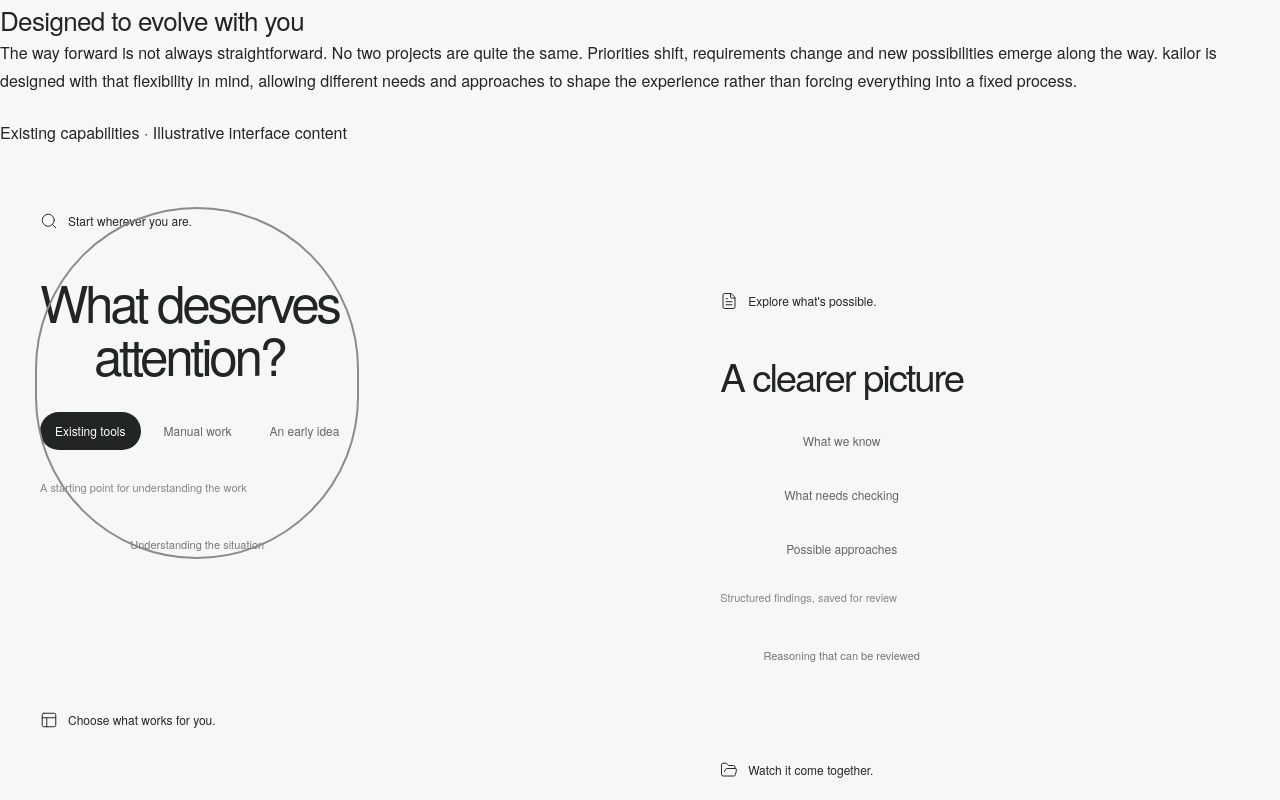
Test: opens Start wherever you are. detail, contains keyboard focus and restores the card after closing
Click the button with aria-label "Explore Start wherever you are." at (197, 383), box [40,212,354,554]
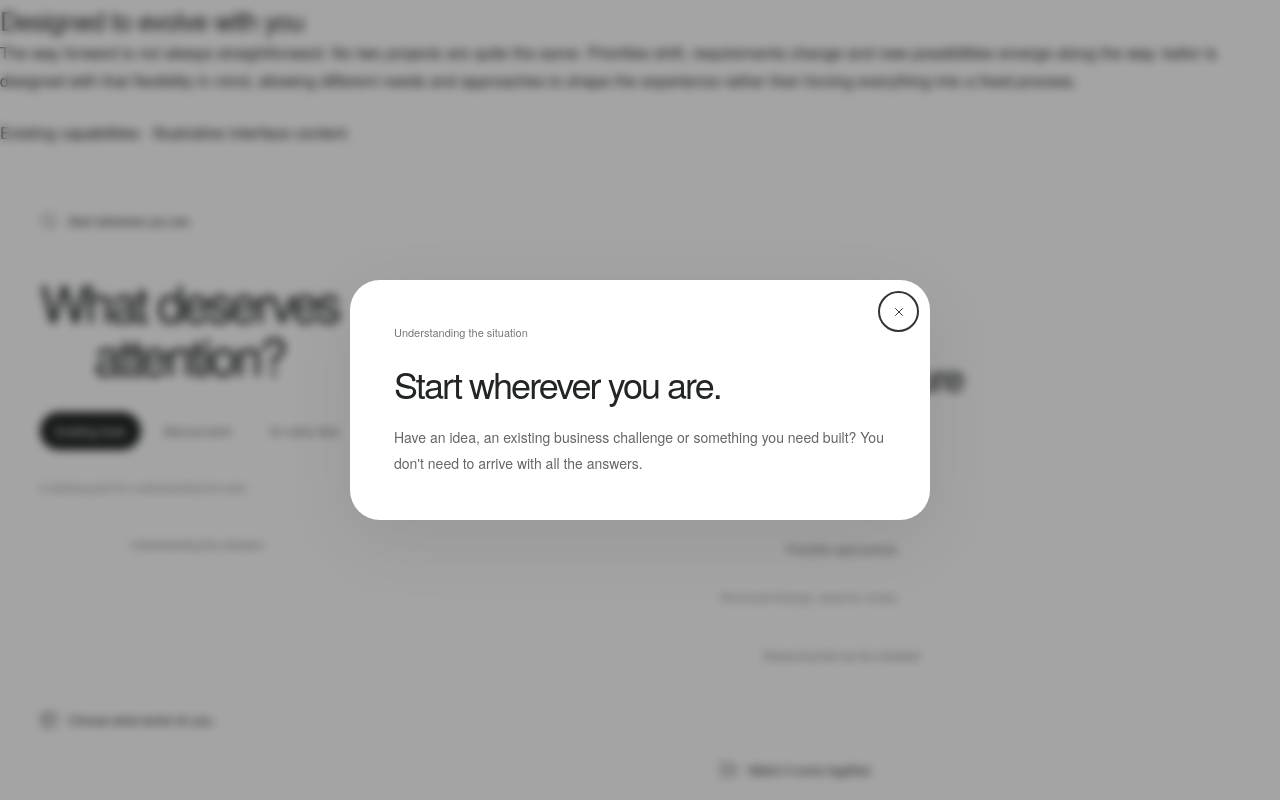
expect the text "Have an idea, an existing business challenge or something you need built? You don't need to arrive with all the answers." is shown: met, box [394,427,884,473]
Press Tab in the dialog "Start wherever you are.", box [350,280,930,520]
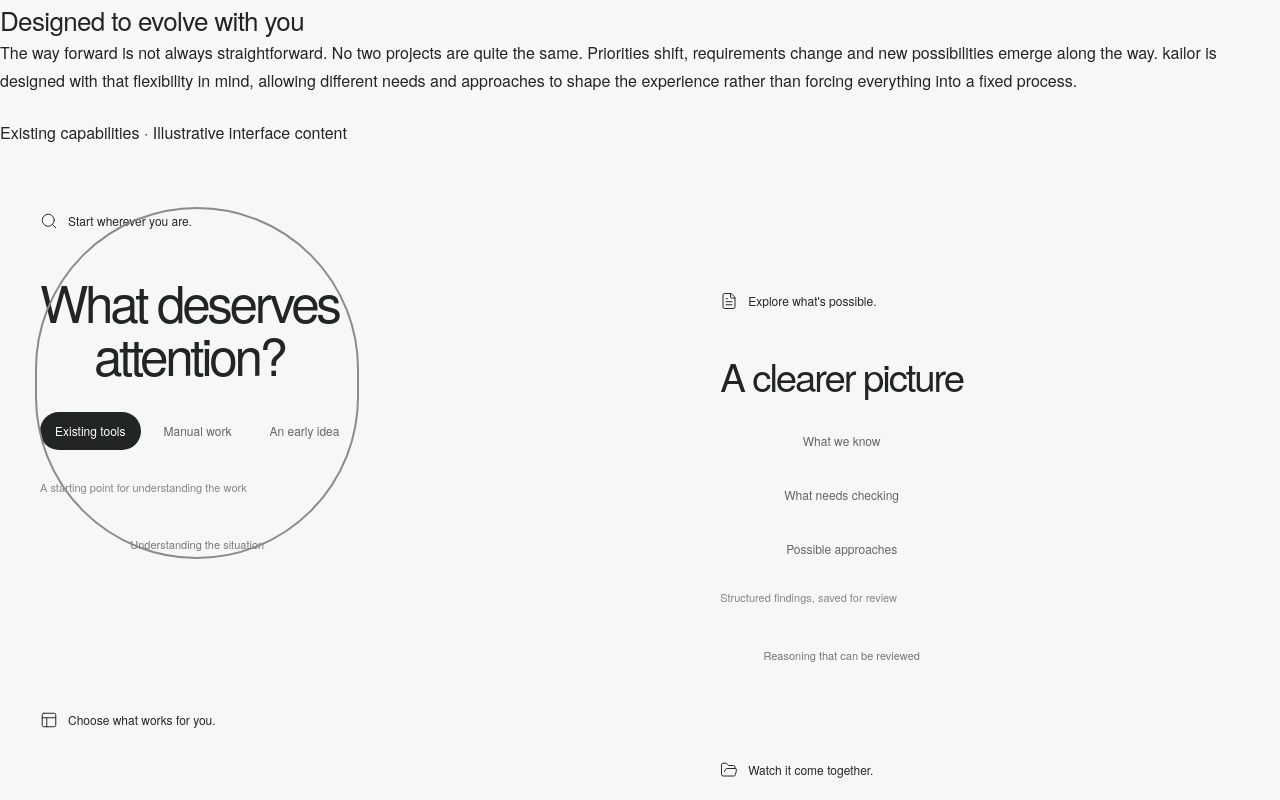
expect the dialog is gone: met
